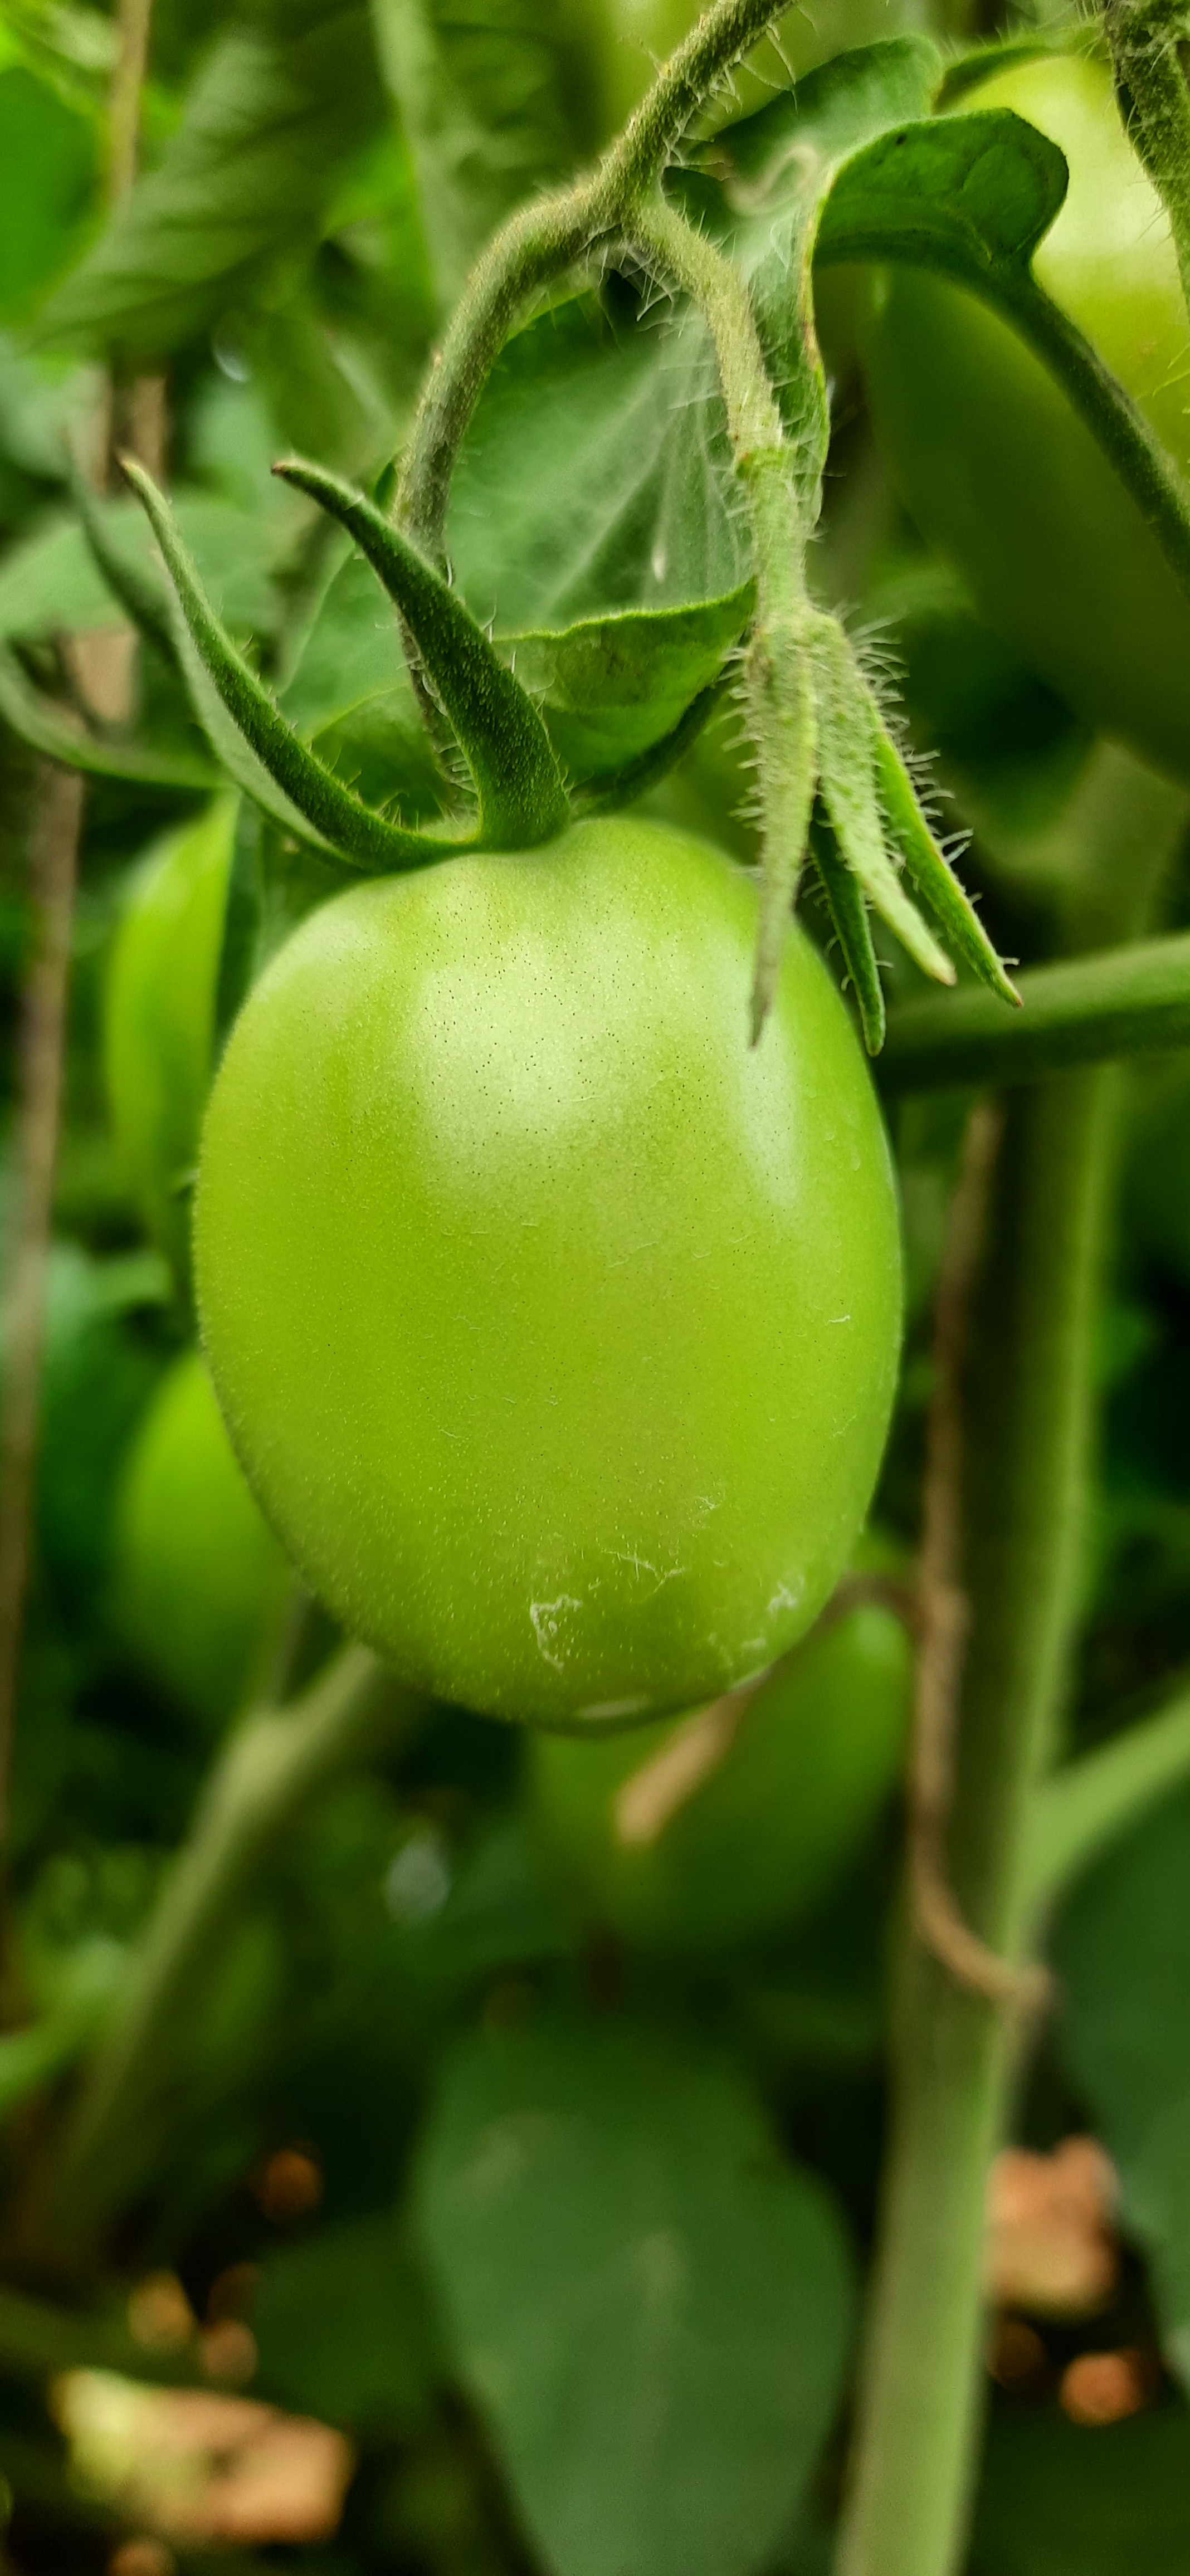raw_tomato: (146, 680, 950, 1832)
